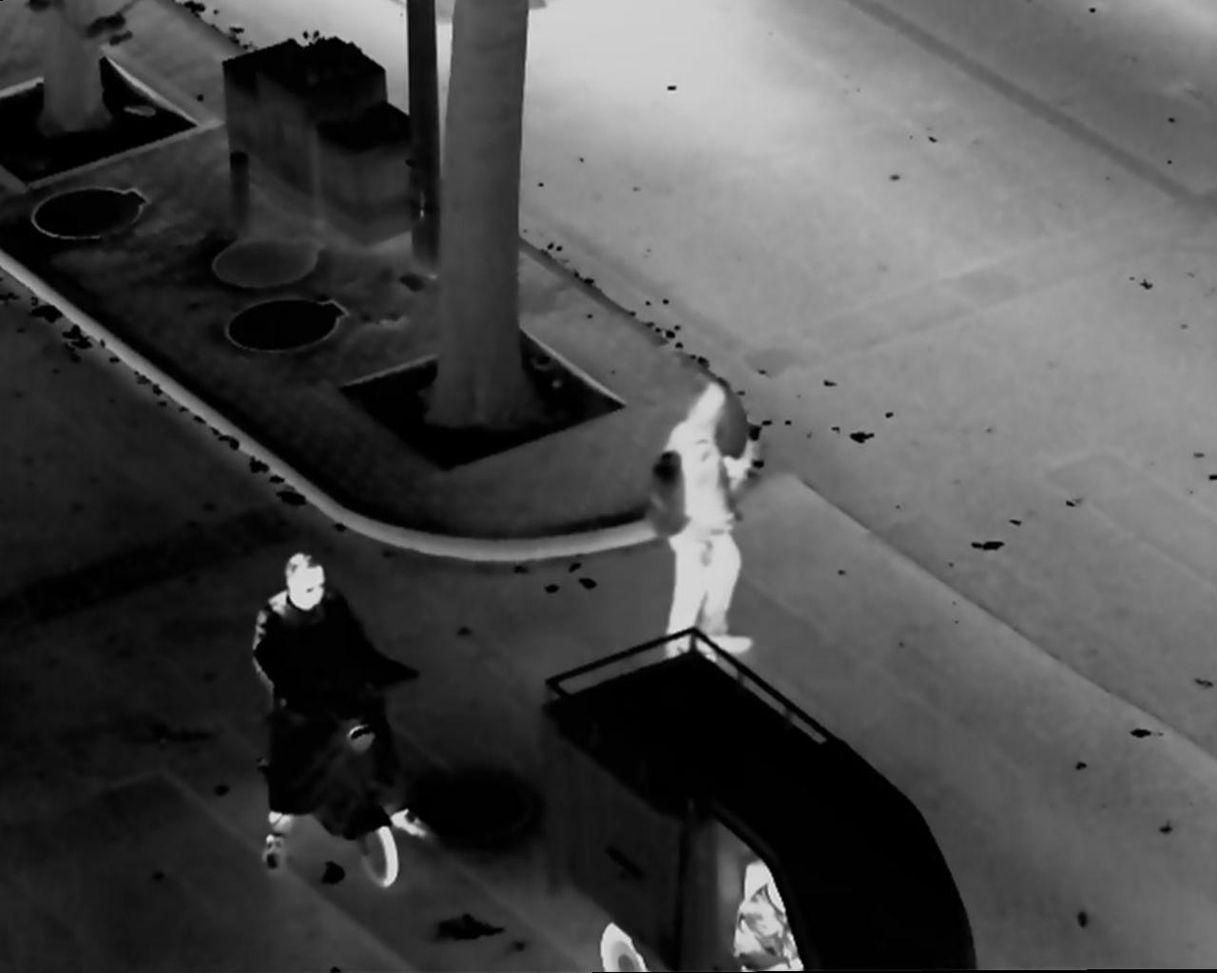person: (241, 548, 439, 865), (654, 381, 766, 664), (726, 853, 812, 973)
